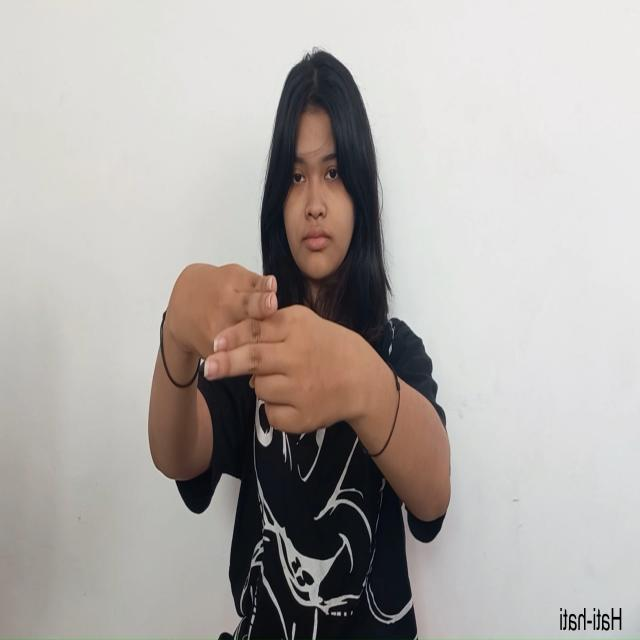Hati-hati -BISINDO-: (165, 262, 373, 436)
